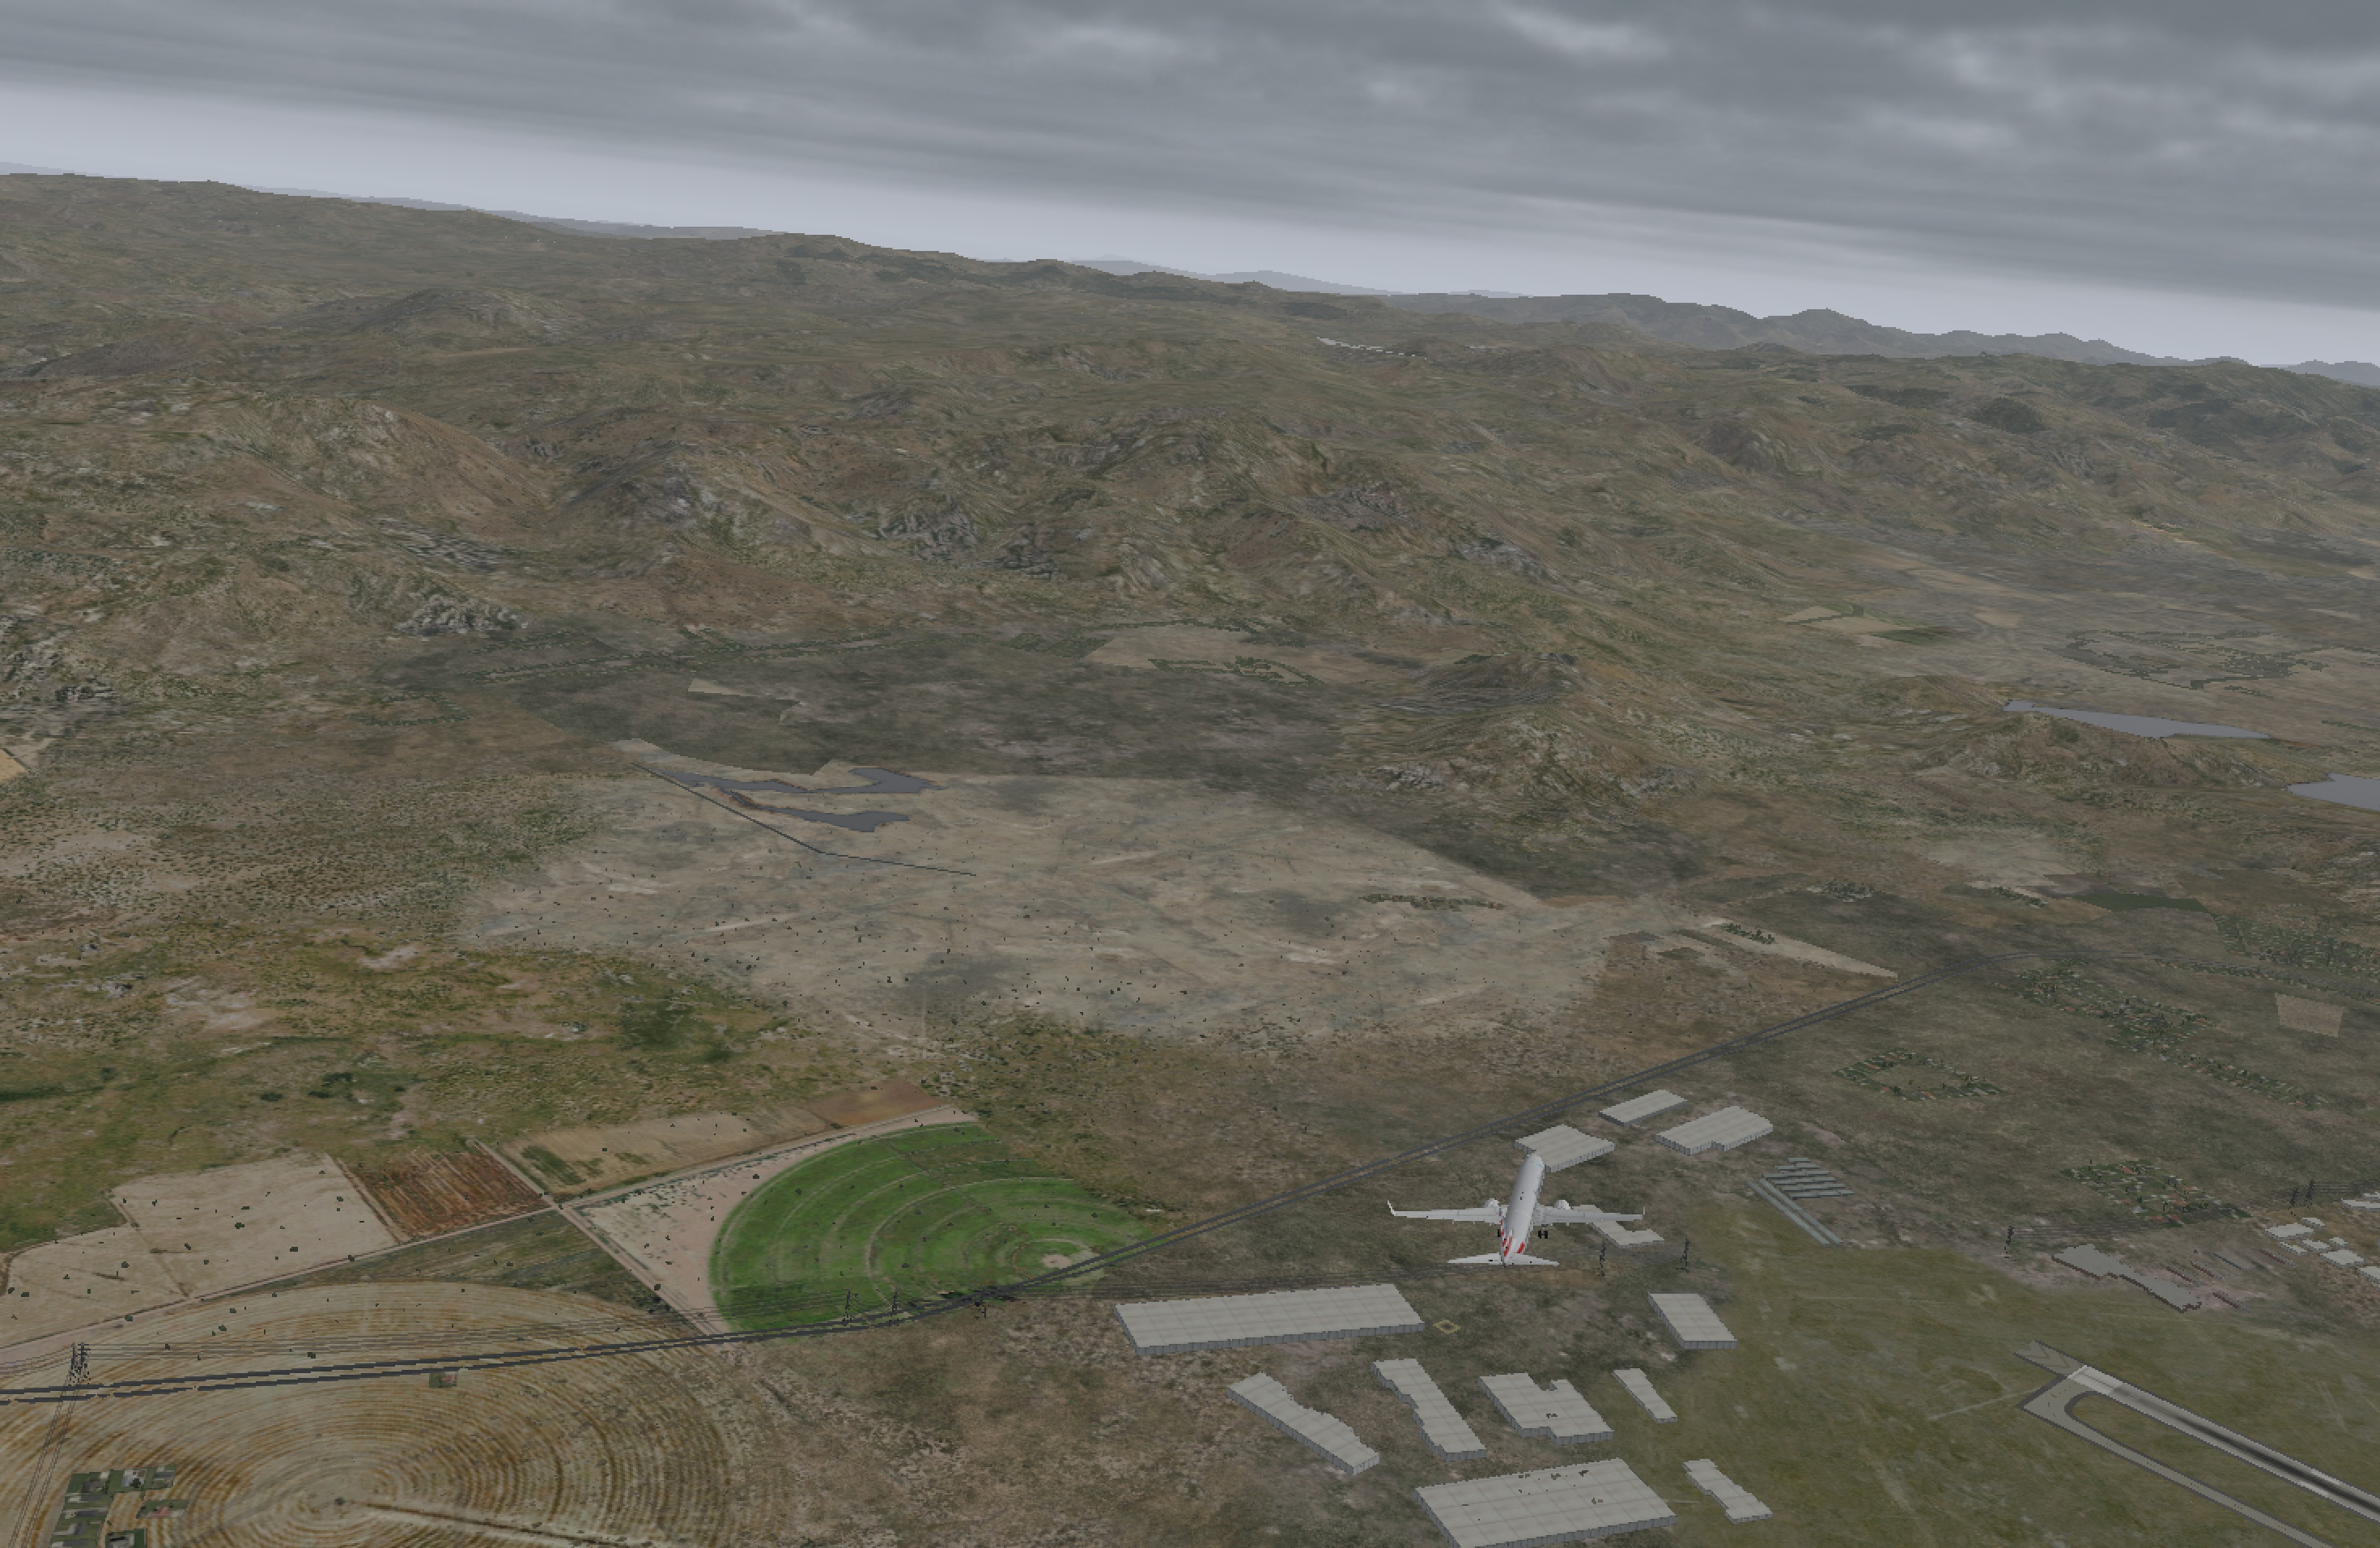aircraft: (1386, 1161, 1660, 1263)
